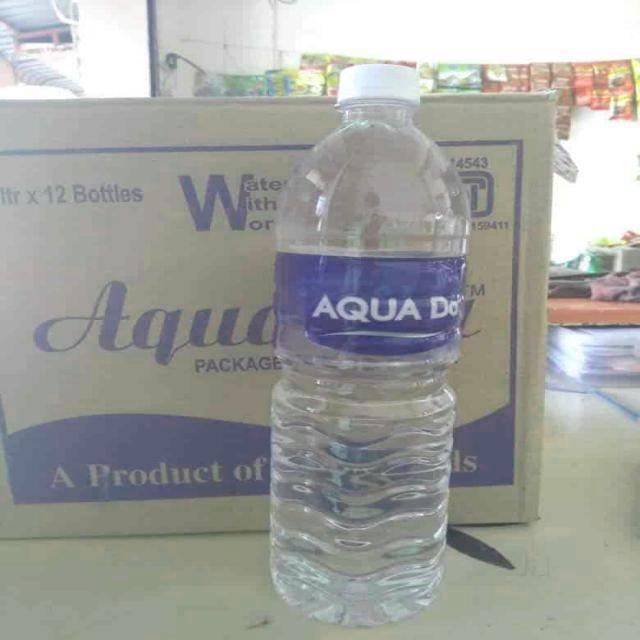bottle: (270, 63, 471, 629)
